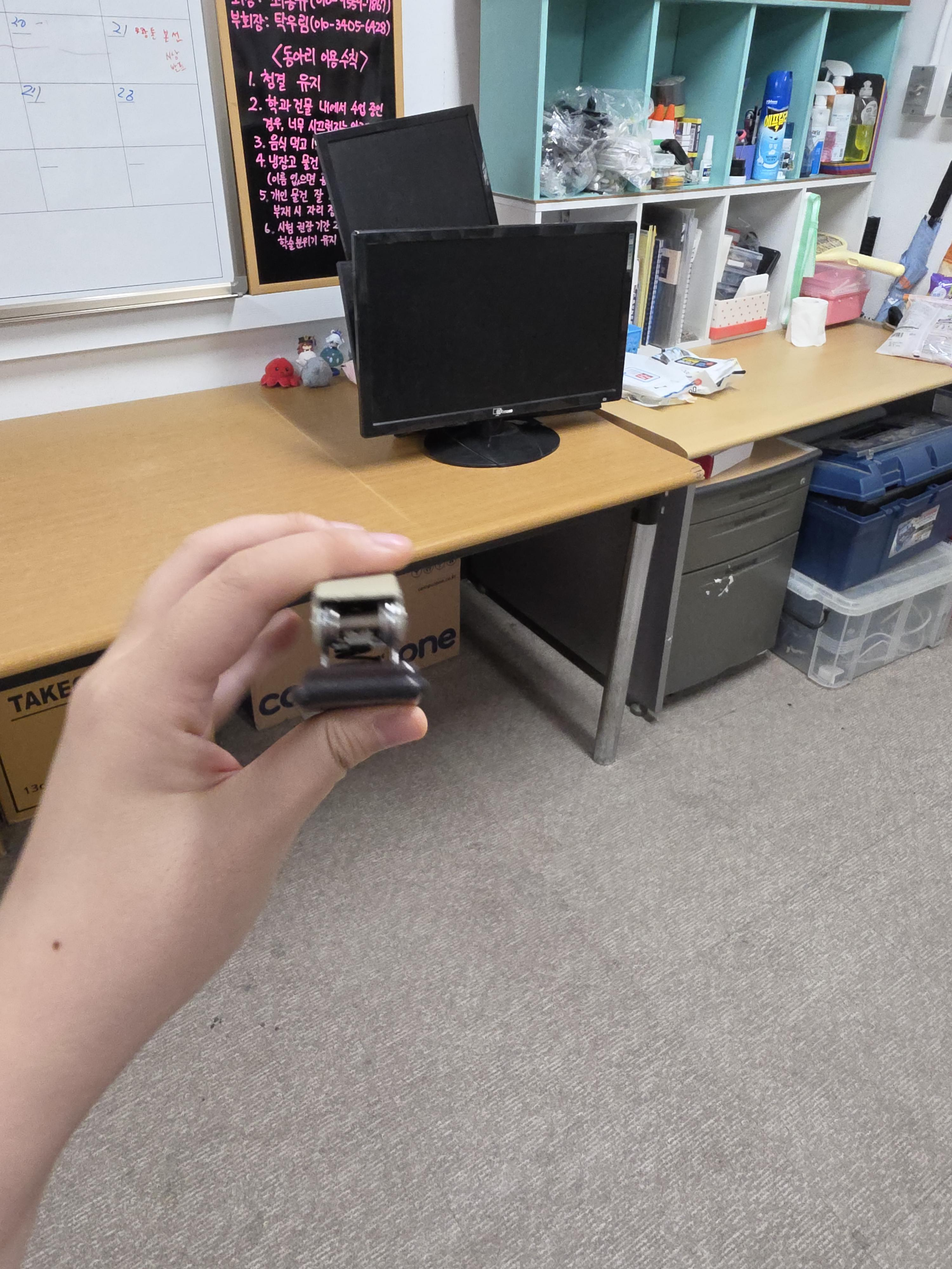stapler: (289, 573, 430, 716)
tissue: (787, 297, 828, 348)
